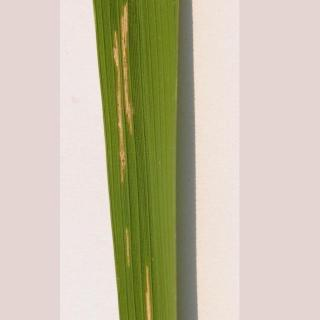Hawar-Daun: (92, 9, 168, 320)
